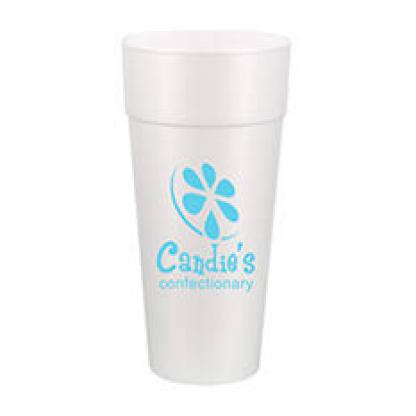paper: (119, 29, 286, 383)
